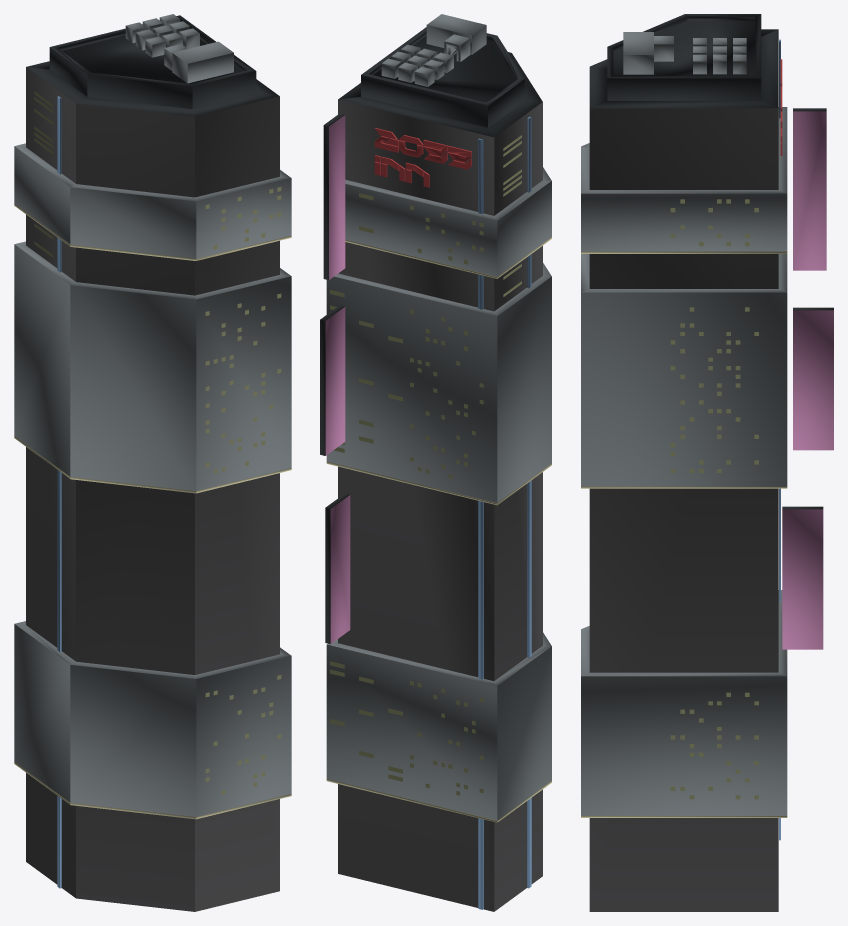
File: hotel3.fbx
The picture shows the model from 3 angles, left to right: view 1: azimuth 30°, elevation 25°; view 2: azimuth 150°, elevation 25°; view 3: azimuth 270°, elevation 25°; orthographic projection. The views are drawn at different scales.
Parts seen in each view (by area): view 1: Cuberpunk2077.002; view 2: Cuberpunk2077.002; view 3: Cuberpunk2077.002.
Boxes of the visible parts, <box> form: Cuberpunk2077.002: <box>14,14,291,911</box>; Cuberpunk2077.002: <box>320,14,551,911</box>; Cuberpunk2077.002: <box>581,14,833,911</box>.
Bounding box in the file's own units: 4878 × 22133 × 6040.
